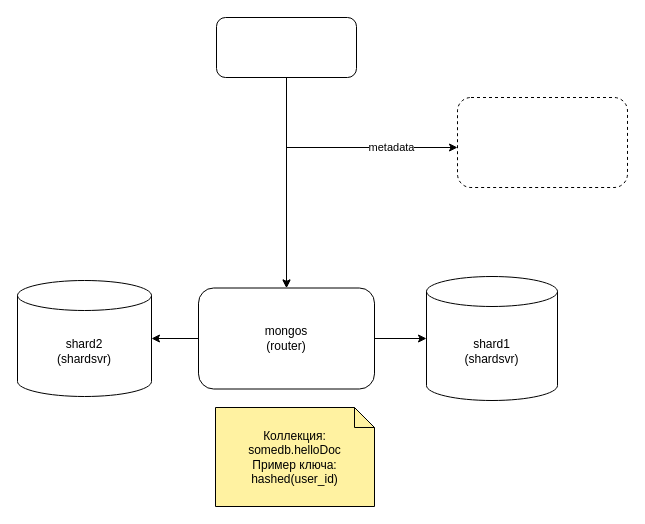
This 645x524 diagram has some shape labels left out. The centre of each missing label's shape, as x and y in pixels:
configSrv (configsvr): (542,142)
pymongo-api: (286,47)
